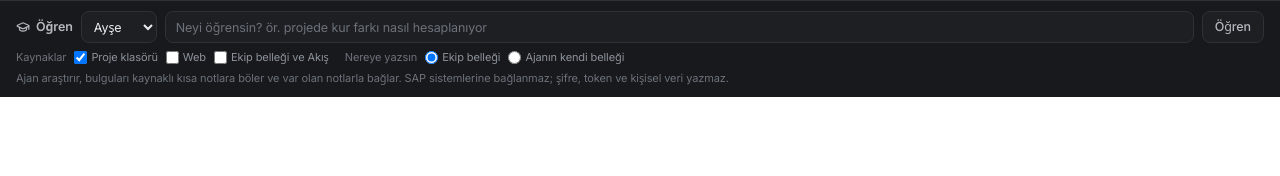
Öğren kutusu › Enter ile gönderir: istem konu ve görev kimliğini taşır, görev çalışıyor, Akış'a kart
The image size is (1280, 176).
Type "Kur farkı hesabı" into the field named "Öğrenme konusu" at (679, 27), box x1=165 y1=11 x2=1194 y2=43
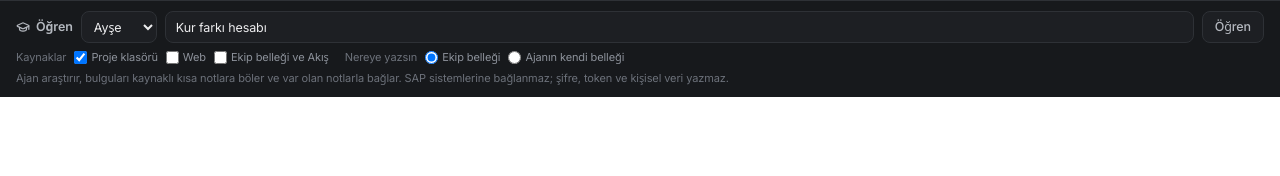
Press Enter in the field named "Öğrenme konusu", box x1=165 y1=11 x2=1194 y2=43
Submit the form named "Öğrenme konusu", box x1=16 y1=11 x2=1264 y2=43
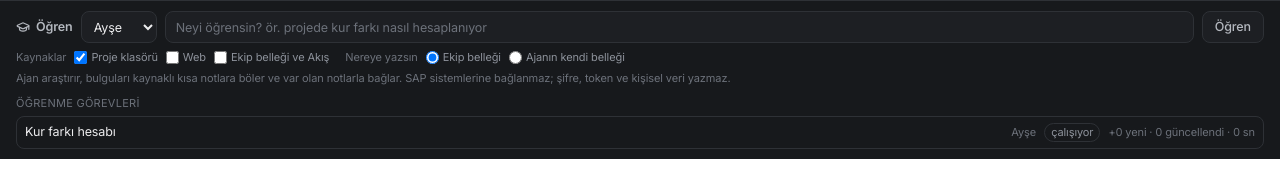
Expected: the text "çalışıyor" is shown, x1=1044 y1=123 x2=1100 y2=142
Expected: the field named "Öğrenme konusu" is empty, x1=165 y1=11 x2=1194 y2=43
